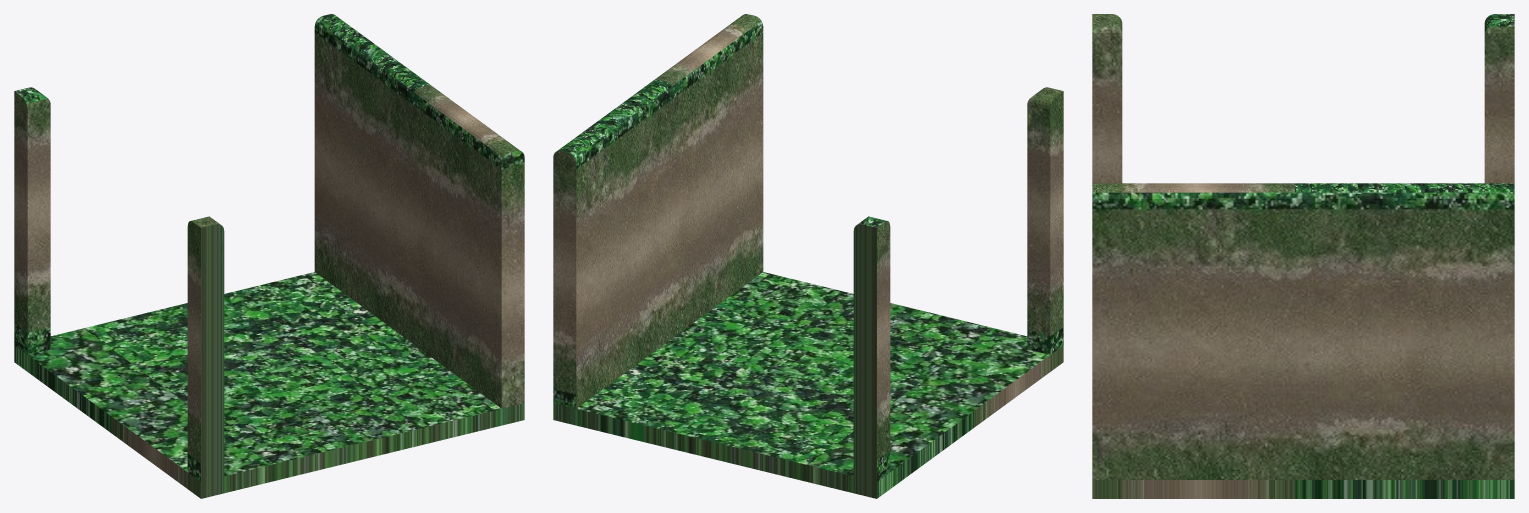
Rendered from T_Junction.obj.
3 views of the same model, side by side, from view 1: azimuth 30°, elevation 25°; view 2: azimuth 150°, elevation 25°; view 3: azimuth 270°, elevation 25° (orthographic). The views are drawn at different scales.
Visible parts, largest first — view 1: Plane.002_Plane.003; view 2: Plane.002_Plane.003; view 3: Plane.002_Plane.003.
Part boxes in pixels (bbox=[...]): Plane.002_Plane.003: bbox=[14, 14, 524, 498]; Plane.002_Plane.003: bbox=[553, 14, 1063, 498]; Plane.002_Plane.003: bbox=[1092, 14, 1514, 498].
Size of the model in its own units: 2 by 1.6 by 2.
1 material, 1 textured.
